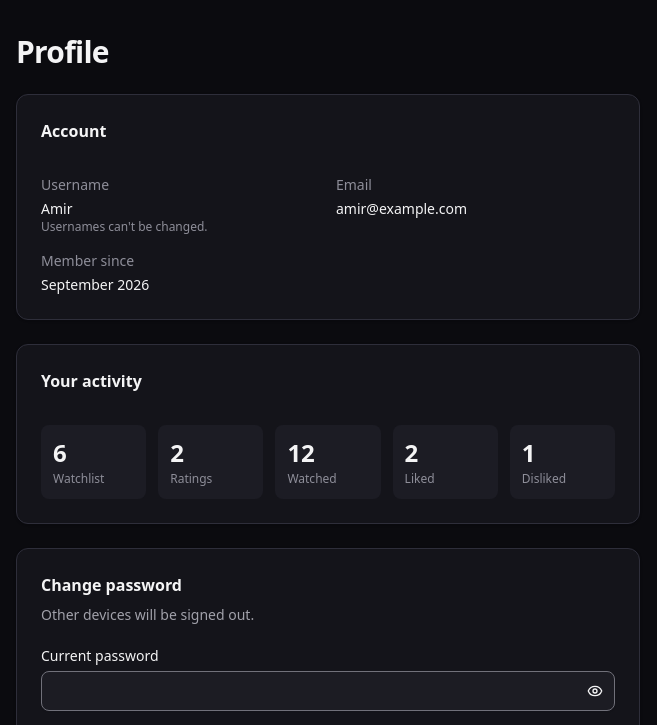
it: change password › wrong current password → field error, no refresh attempted
Type "wrong-pass" into the password field labelled "Current password".
click(328, 691); type("wrong-pass")  # box [41,671,615,711]
(page scrolled)
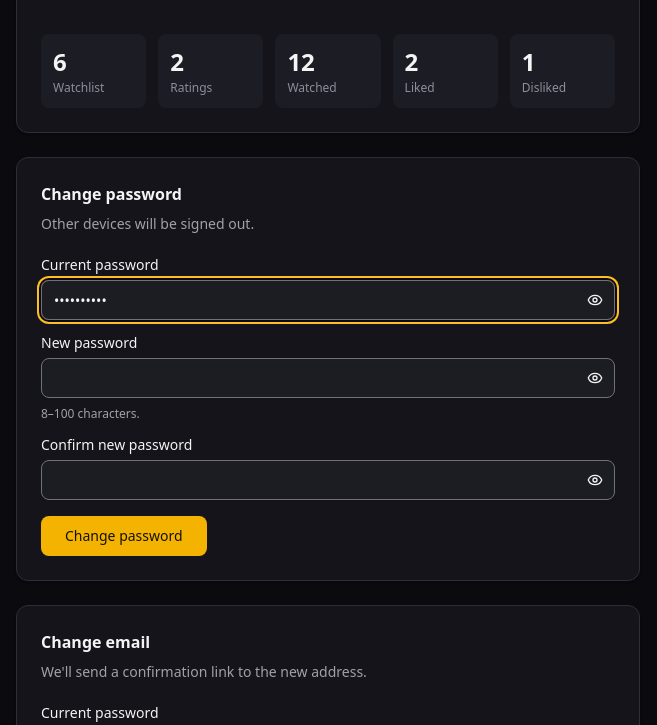
Type "new-password-1" into the password field labelled "New password".
click(328, 378); type("new-password-1")  # box [41,358,615,398]
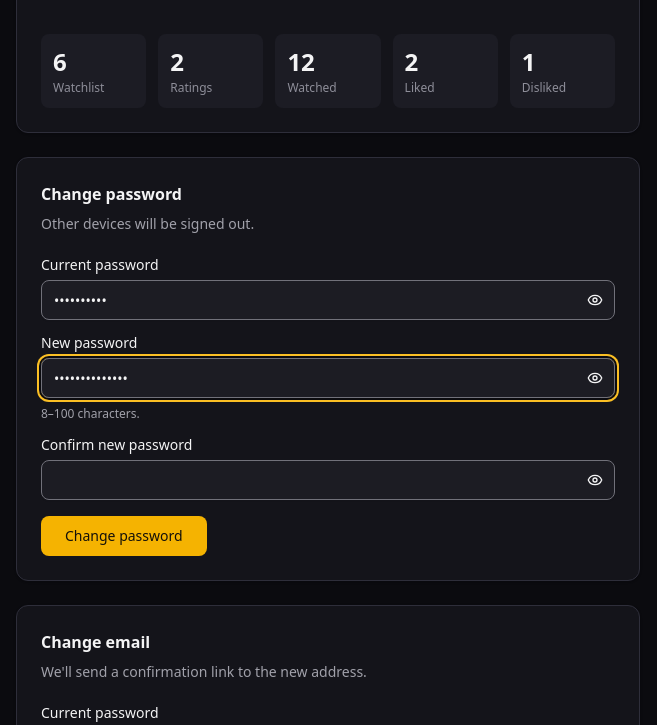
Type "new-password-1" into the password field labelled "Confirm new password".
click(328, 480); type("new-password-1")  # box [41,460,615,500]
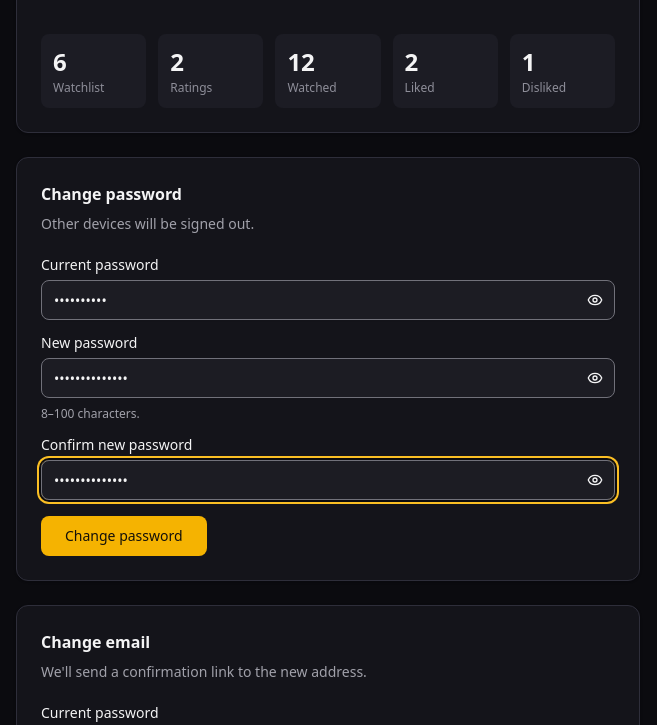
Click the button "Change password".
click(124, 536)  # box [41,516,207,556]
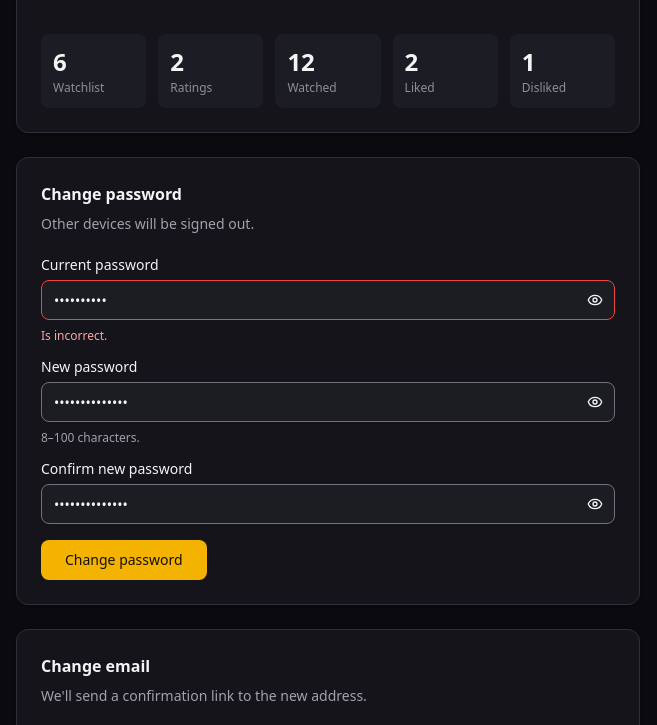
Check: the text "Is incorrect." is shown, box [41,327,107,344]
